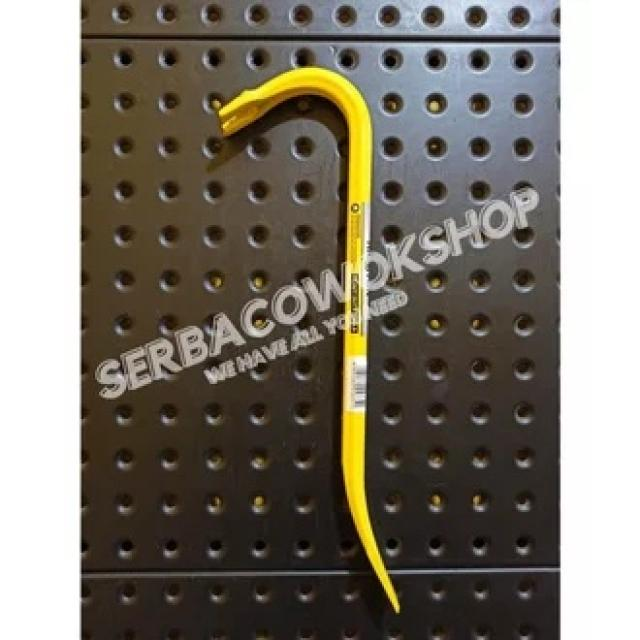Linggis: (221, 64, 412, 617)
